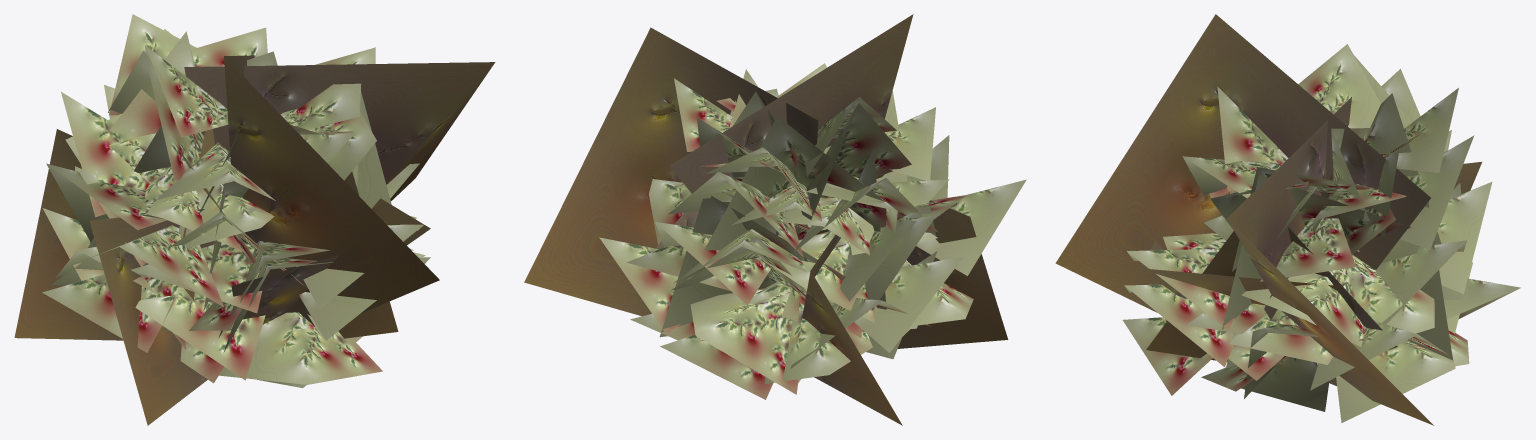
File: cornusmas.DAE
The picture shows the model from 3 angles, left to right: view 1: azimuth 30°, elevation 25°; view 2: azimuth 150°, elevation 25°; view 3: azimuth 270°, elevation 25°; orthographic projection. The views are drawn at different scales.
Parts seen in each view (by area): view 1: cornus; view 2: cornus; view 3: cornus.
Part boxes in pixels (x1=…): cornus: x1=14, y1=14, x2=495, y2=425; cornus: x1=524, y1=14, x2=1026, y2=425; cornus: x1=1055, y1=14, x2=1520, y2=425.
Size of what is drawn, in the model's own units: 370 by 367 by 316.
